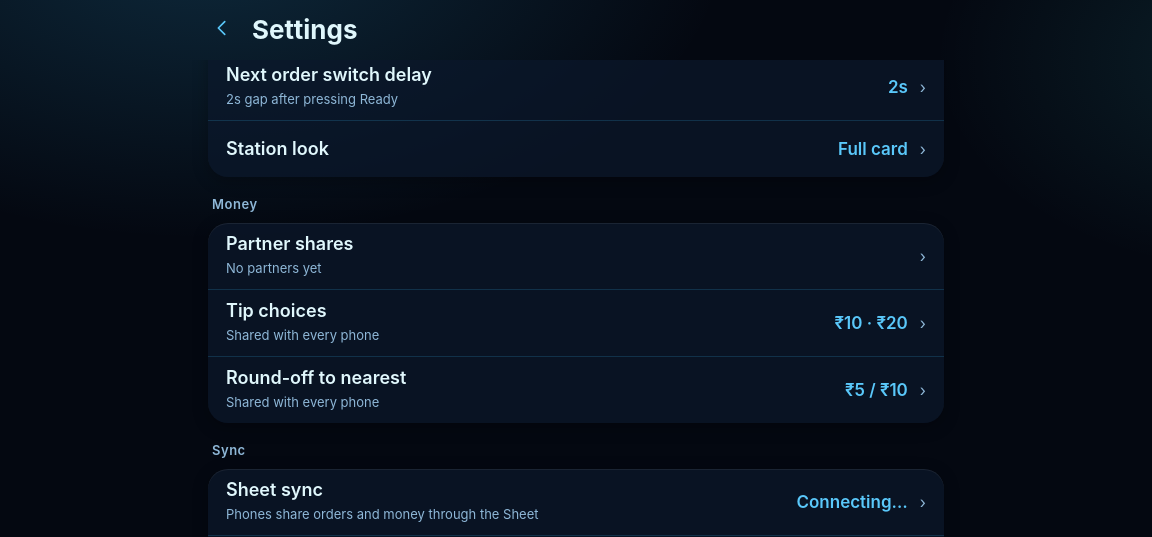
Test: SettingsScreen (F-69) › shows Round-off steps with placeholder 5, 10 (W-20)
(page scrolled)
Click the button "Round-off to nearest Shared with every phone ₹5 / ₹10 ›": (316, 378) [208,357,944,423]
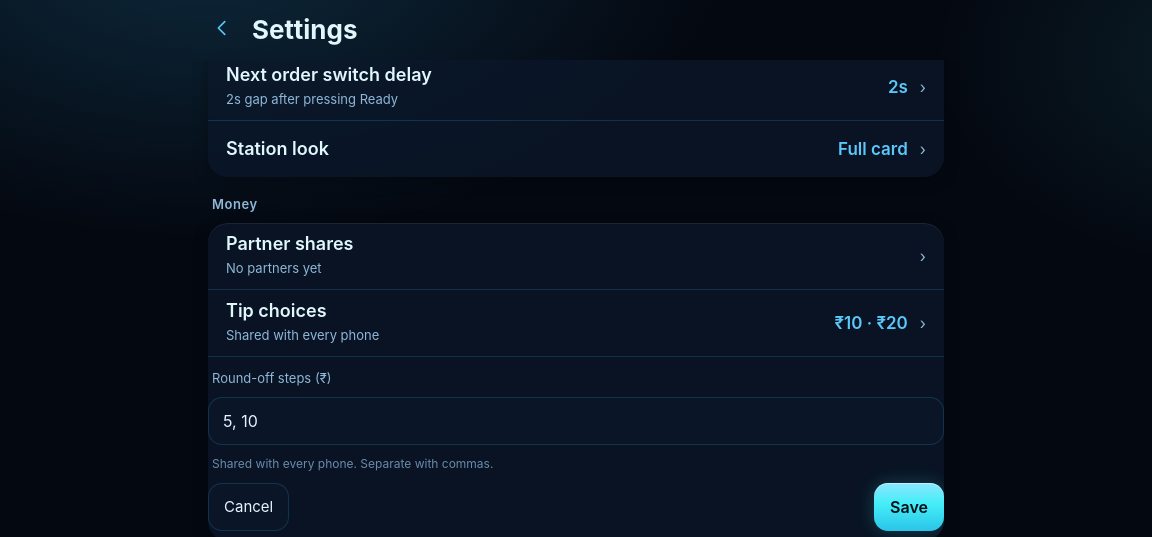
Expected: the field with placeholder "5, 10" is shown, [208,397,944,445]
